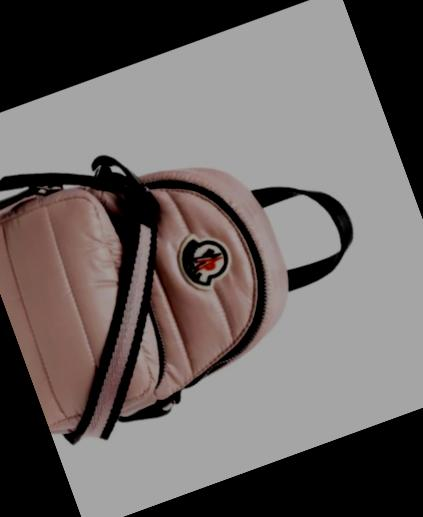MONCLER: (168, 222, 238, 298)
